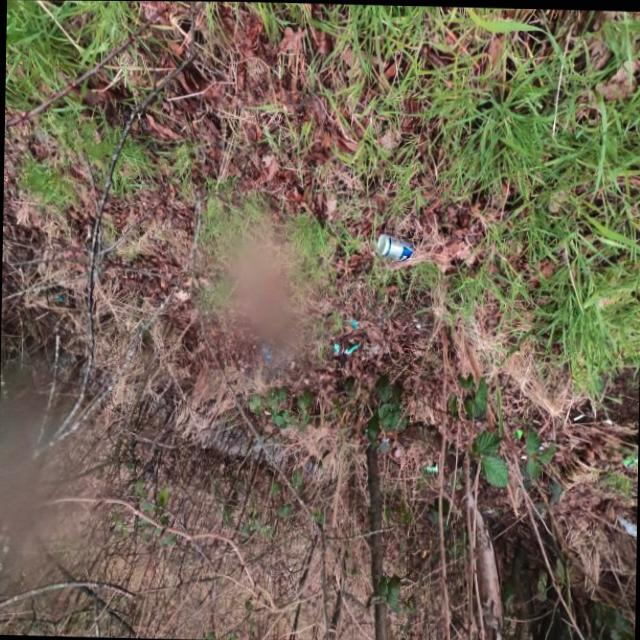Can-Metal: (372, 233, 416, 272)
